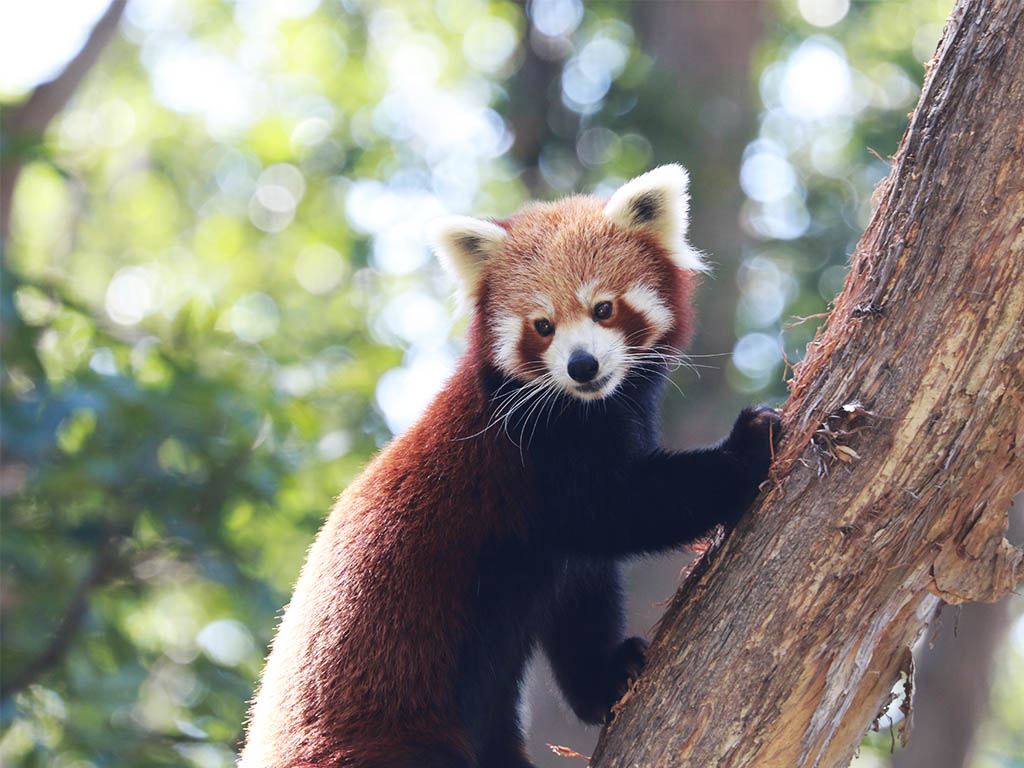red_panda: (267, 186, 763, 766)
